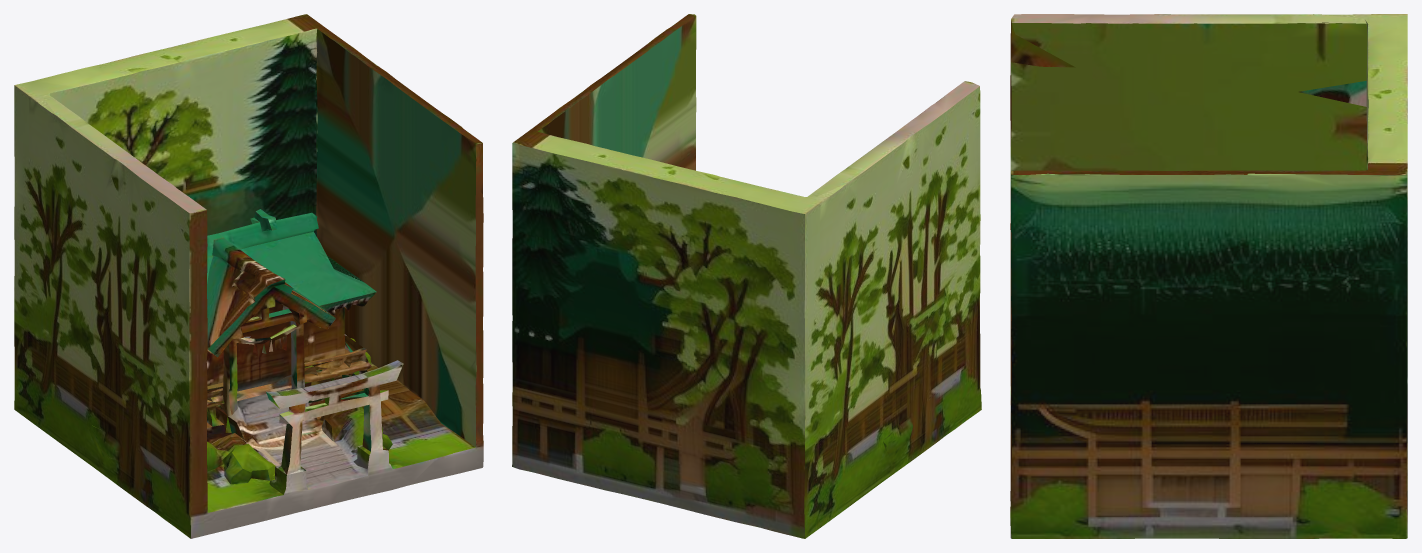
The model's file is obihiro-shrine.glb.
3 views of the same model, side by side, from view 1: azimuth 30°, elevation 25°; view 2: azimuth 150°, elevation 25°; view 3: azimuth 270°, elevation 25° (orthographic). The views are drawn at different scales.
Parts seen in each view (by area): view 1: logan-textured.obj; view 2: logan-textured.obj; view 3: logan-textured.obj.
Boxes of the visible parts, x1,y1,x2,y2 form: logan-textured.obj: [14, 14, 483, 538]; logan-textured.obj: [512, 14, 981, 538]; logan-textured.obj: [1010, 14, 1407, 538].
Bounding box in the file's own units: 0.9579 × 1 × 0.9868.
Materials: 1 (1 with a texture image).
